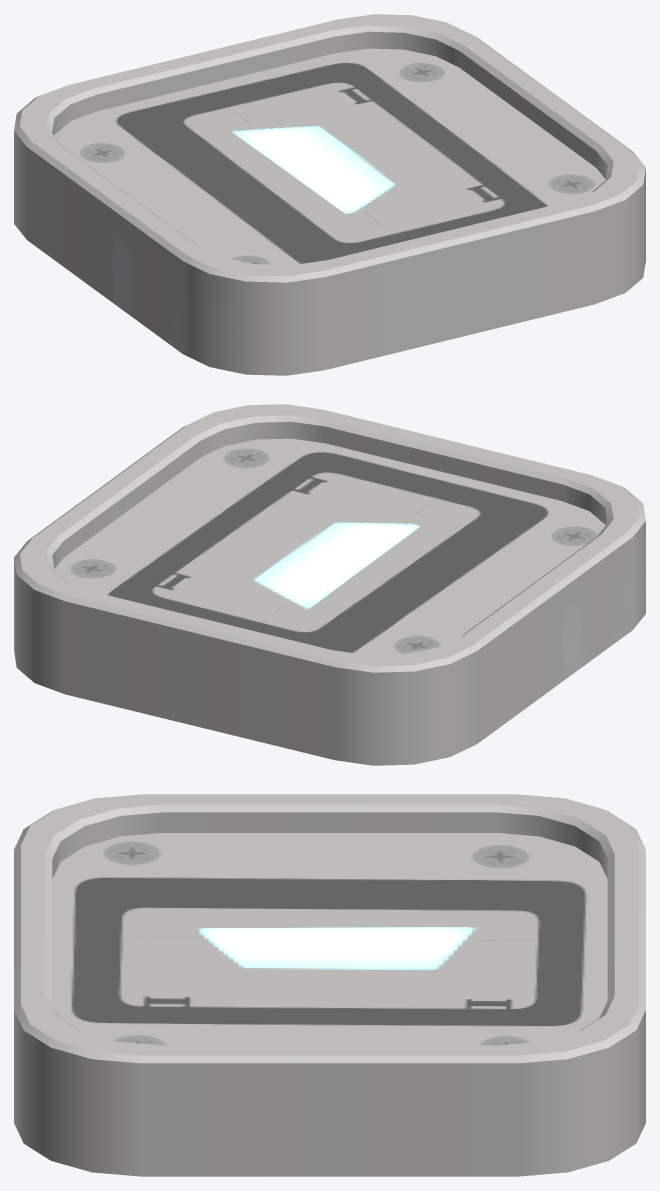
Rendered from SM_Lamp_1_1.fbx.
3 renders of one model, top to bottom at view 1: azimuth 30°, elevation 25°; view 2: azimuth 150°, elevation 25°; view 3: azimuth 270°, elevation 25°, orthographic. The views are drawn at different scales.
Visible parts, largest first — view 1: SM_Lamp_1_1_LOD0; view 2: SM_Lamp_1_1_LOD0; view 3: SM_Lamp_1_1_LOD0.
Boxes of the visible parts, x1,y1,x2,y2 form: SM_Lamp_1_1_LOD0: (14, 14, 645, 375); SM_Lamp_1_1_LOD0: (14, 404, 645, 765); SM_Lamp_1_1_LOD0: (14, 794, 645, 1176).
Size of the model in its own units: 10 by 2.06 by 10.
Materials: 1 (1 with a texture image).
